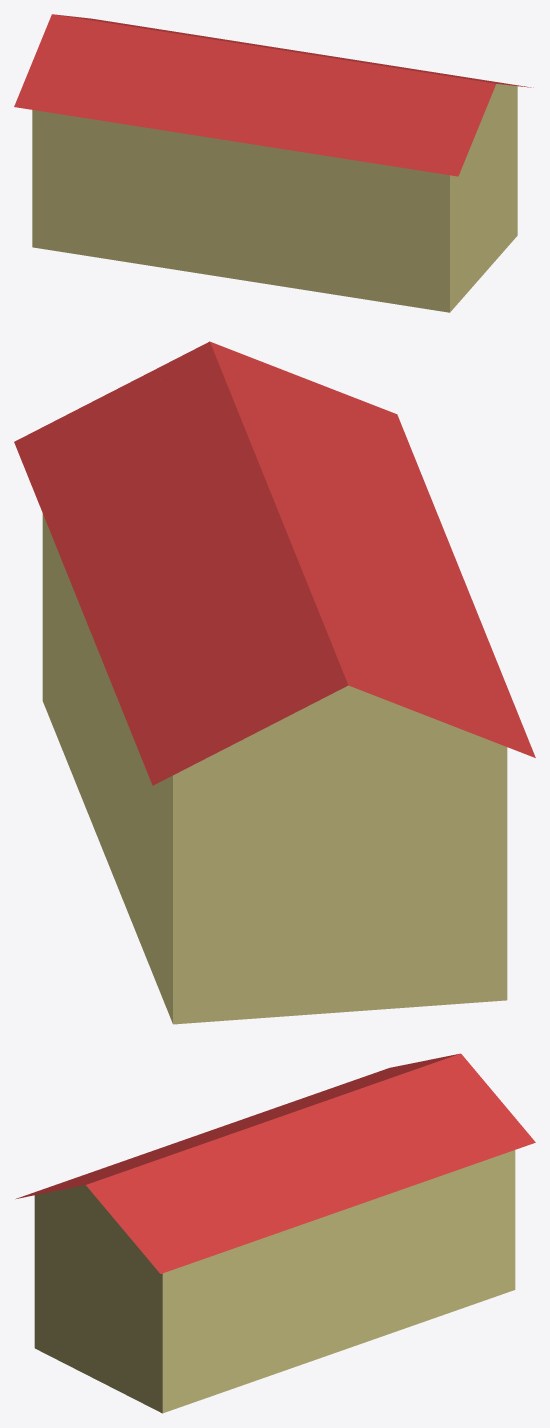
3 renders of one model, top to bottom at view 1: azimuth 30°, elevation 25°; view 2: azimuth 150°, elevation 25°; view 3: azimuth 270°, elevation 25°, orthographic. The views are drawn at different scales.
Size of the model in its own units: 33.11 by 35.41 by 14.9.
